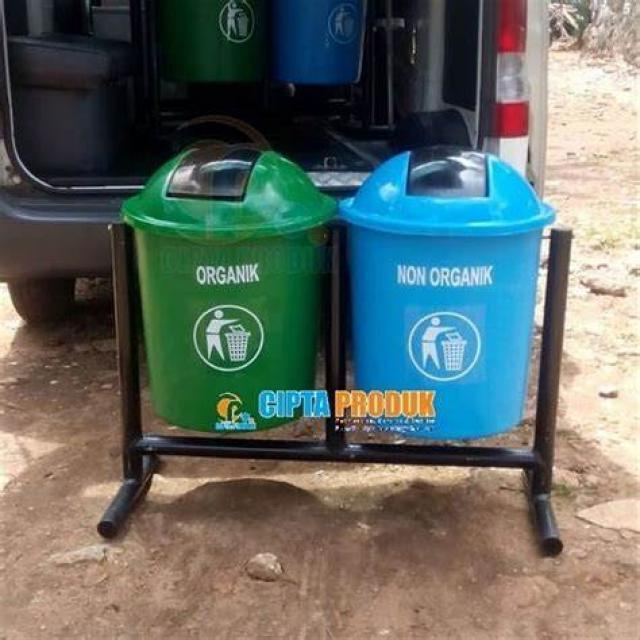garbage container: (89, 124, 349, 480), (352, 130, 584, 508)
